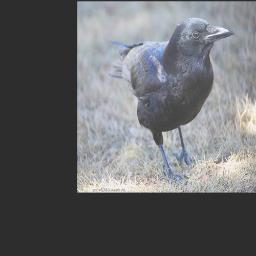Crow: (107, 16, 233, 183)
